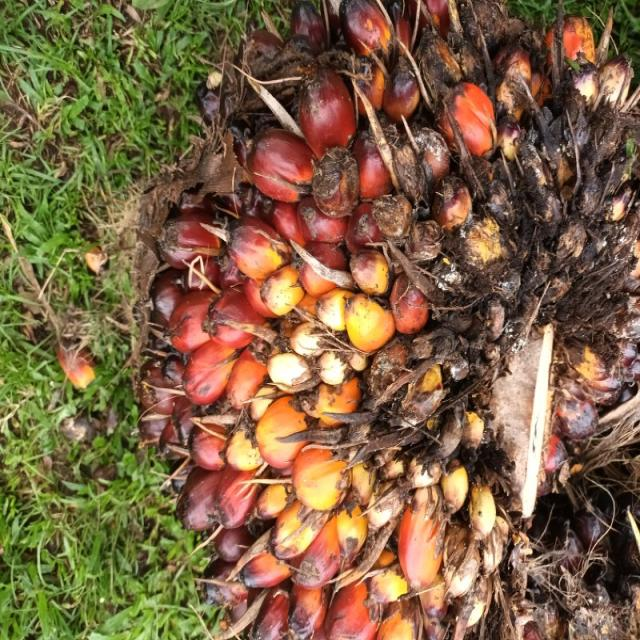fraksi 1: (0, 55, 480, 640)
